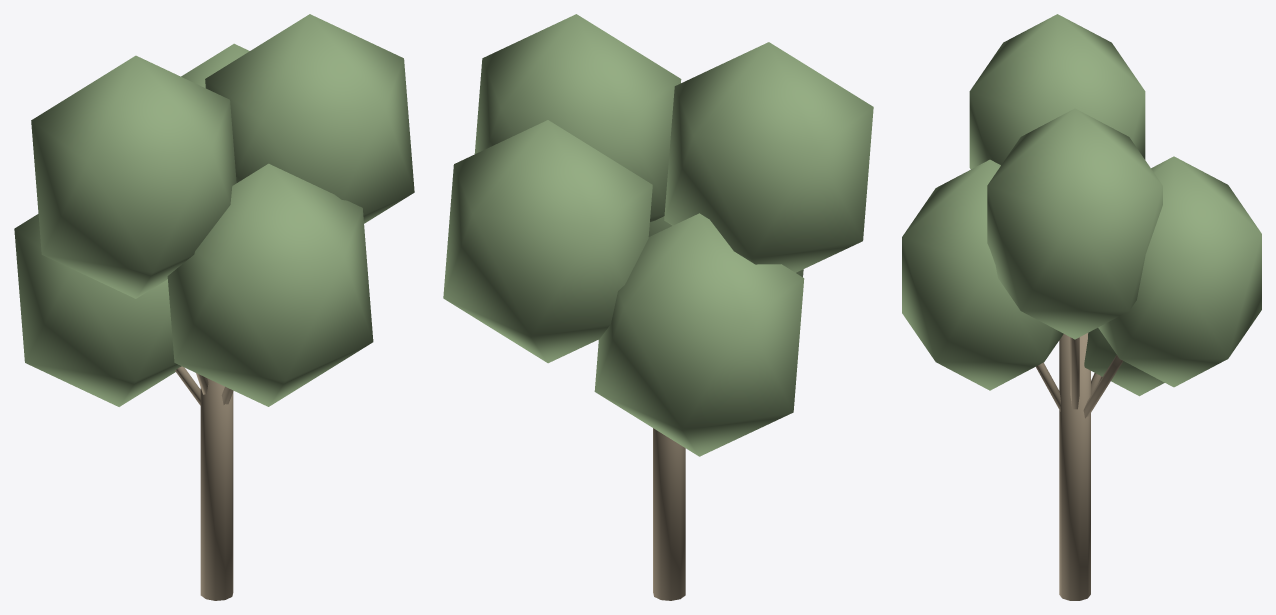
Rendered from rhine-pine_lod1.glb.
3 views of the same model, side by side, from view 1: azimuth 30°, elevation 25°; view 2: azimuth 150°, elevation 25°; view 3: azimuth 270°, elevation 25° (orthographic). The views are drawn at different scales.
Parts seen in each view (by area): view 1: RF_Foliage.004, RF_Foliage.002, RF_Foliage, RF_Foliage.001, RF_Trunk, RF_Foliage.003; view 2: RF_Foliage.003, RF_Foliage.004, RF_Foliage.001, RF_Foliage, RF_Trunk; view 3: RF_Foliage, RF_Foliage.003, RF_Foliage.002, RF_Foliage.004, RF_Trunk, RF_Foliage.001, RF_Branch.001, RF_Branch.004.
Part boxes in pixels (x1,y1,x2,y2): RF_Foliage.004: [31, 55, 236, 298]; RF_Foliage.002: [167, 163, 373, 406]; RF_Foliage: [205, 14, 414, 223]; RF_Foliage.001: [14, 214, 181, 406]; RF_Trunk: [200, 378, 233, 600]; RF_Foliage.003: [181, 43, 249, 87]; RF_Foliage.003: [443, 120, 652, 363]; RF_Foliage.004: [664, 42, 873, 272]; RF_Foliage.001: [594, 213, 804, 456]; RF_Foliage: [474, 14, 681, 221]; RF_Trunk: [653, 428, 685, 600]; RF_Foliage: [987, 108, 1162, 339]; RF_Foliage.003: [1098, 156, 1261, 387]; RF_Foliage.002: [902, 159, 1063, 390]; RF_Foliage.004: [969, 14, 1145, 169]; RF_Trunk: [1059, 333, 1090, 600]; RF_Foliage.001: [1084, 328, 1164, 396]; RF_Branch.001: [1070, 337, 1079, 409]; RF_Branch.004: [1083, 355, 1123, 418].
Size of the model in its own units: 10.06 by 14.68 by 8.88.
